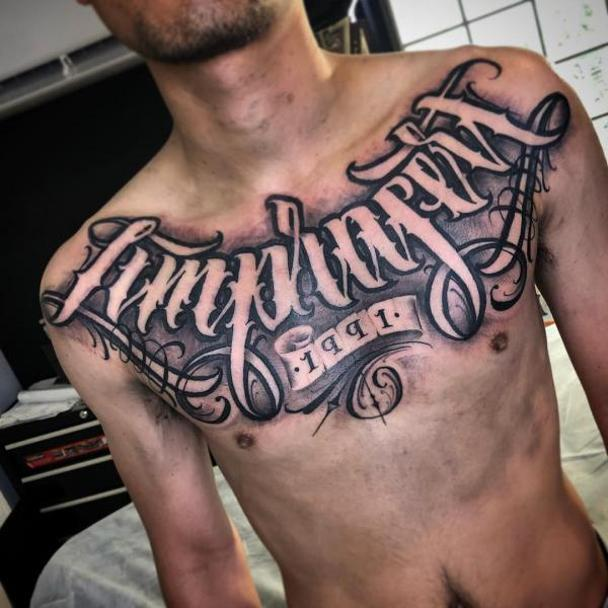tattoos: (41, 57, 572, 437)
